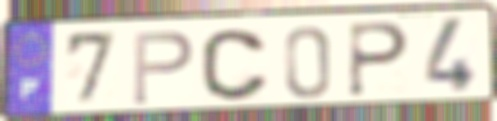0: (281, 24, 333, 101)
4: (422, 14, 479, 100)
7: (62, 30, 121, 111)
C: (198, 27, 272, 103)
P: (345, 20, 412, 100), (130, 29, 196, 108)
